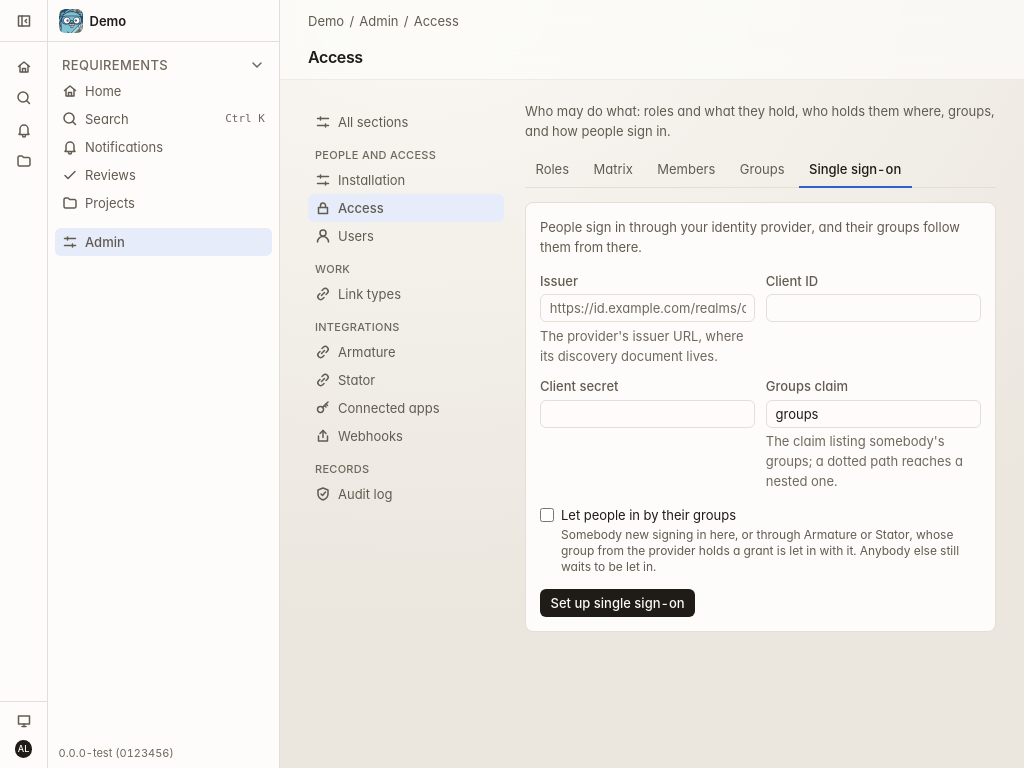
Scenario: the single sign-on settings › sets up a provider with the standard's fields only, and says where people sign in
Type "https://id.test/realms/acme" into the field labelled "Issuer" at [648, 308], box [540,294,755,322]
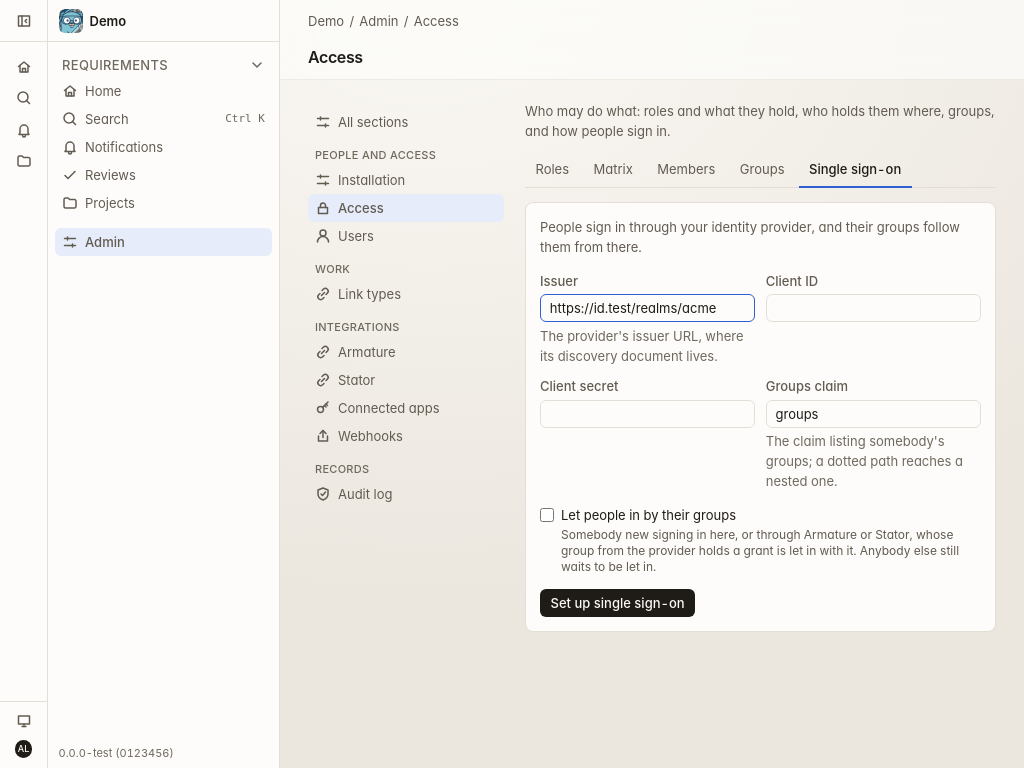
Expected: the button "Turn it off" is not shown
Type "exciter" into the field labelled "Client ID" at [873, 308], box [766,294,981,322]
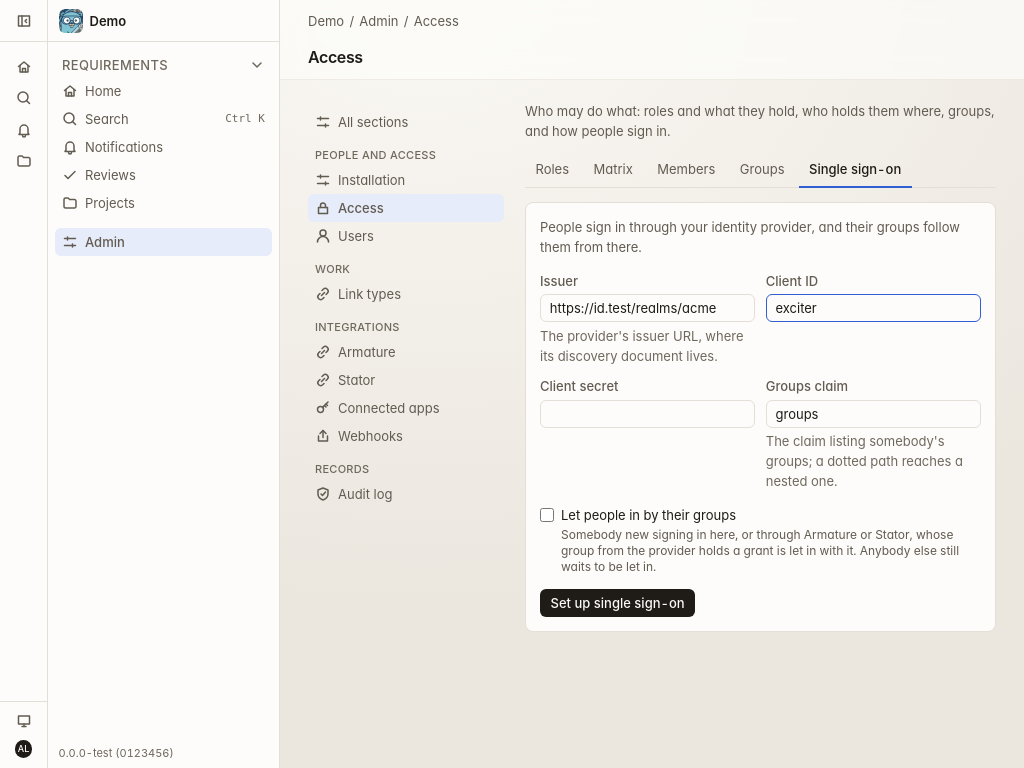
Type "s3cret" into the password field labelled "Client secret" at [648, 414], box [540,400,755,428]
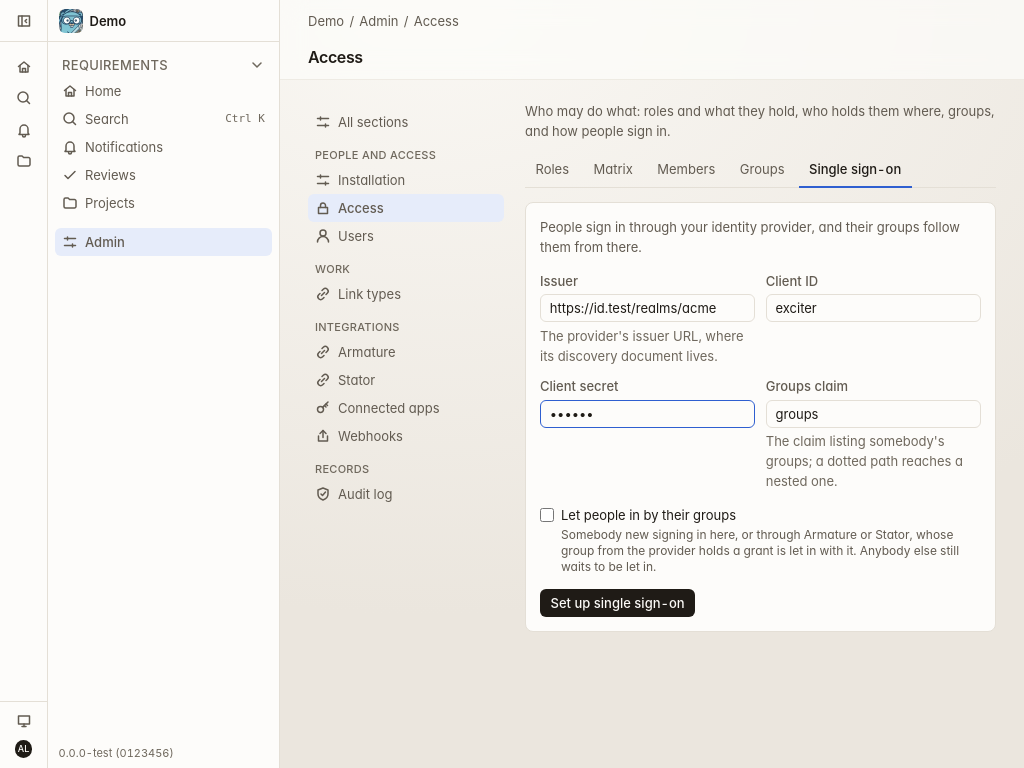
Click the button "Set up single sign-on" at [618, 603], box [540,589,695,617]
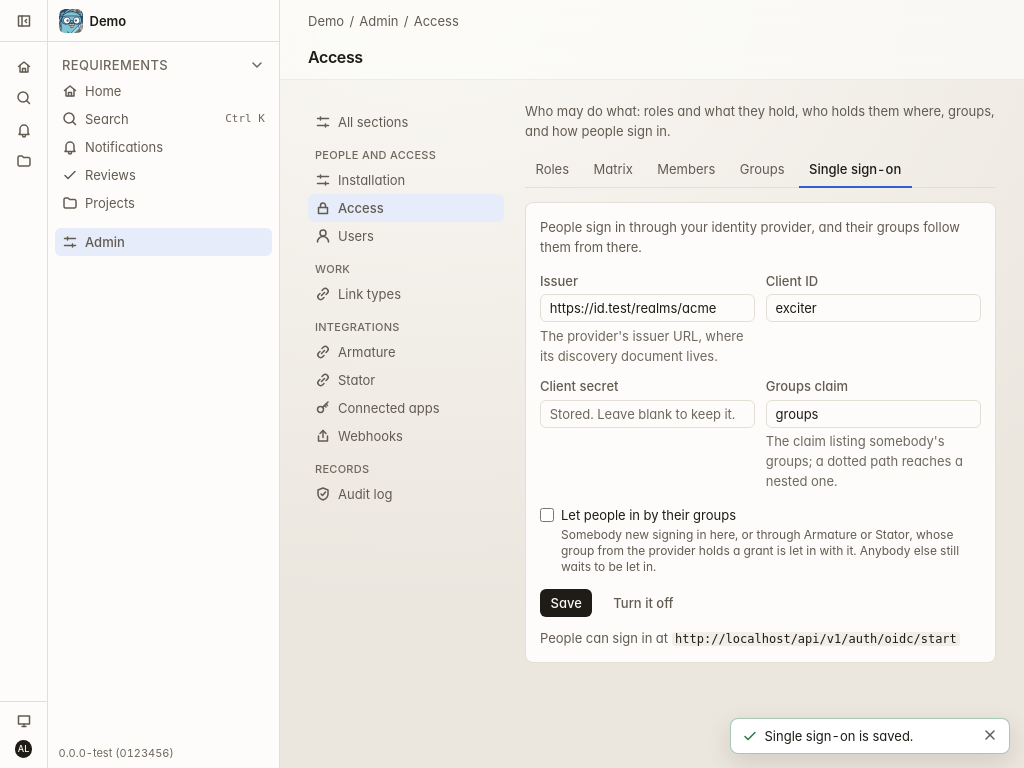
Expected: the text "Single sign-on is saved." is shown, [764,728,913,744]
Expected: the element that starts with "People can sign in at" is shown, [540,630,668,646]
